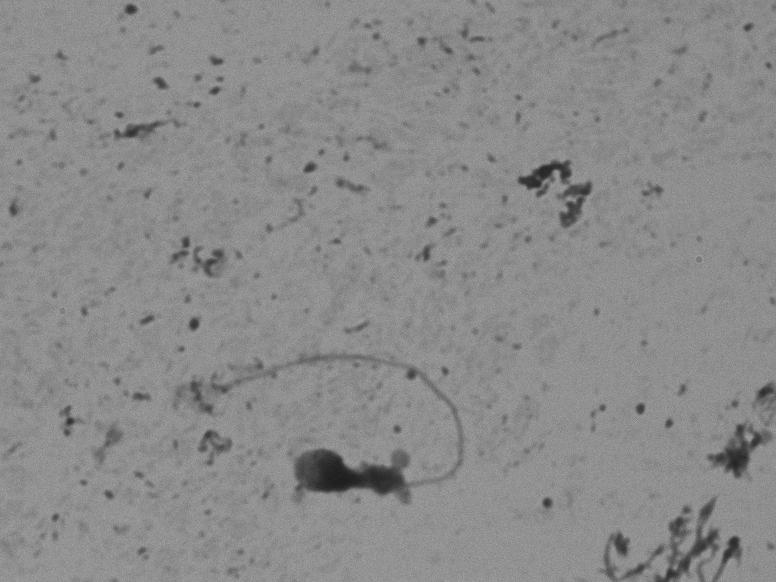Abnormal: (157, 325, 493, 523)
